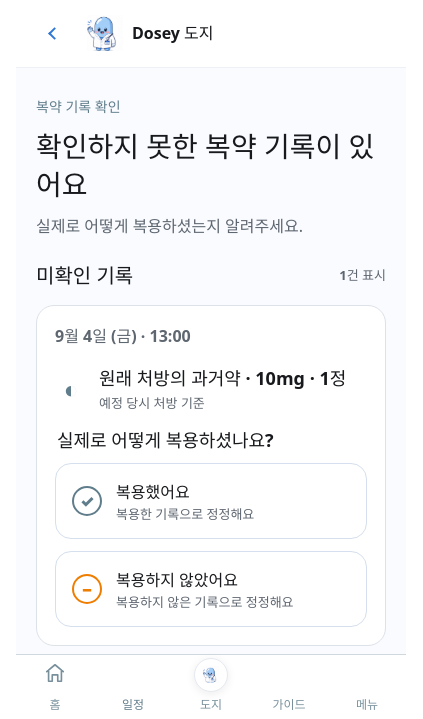
Scenario: UNCONFIRMED correction › submits NOT_TAKEN with occurrence, current revision and refreshes from the server
This screenshot has width=423, height=719.
Check: the text "원래 처방의 과거약 · 10mg · 1정" is shown, box [99, 364, 346, 390]
Click the button "− 복용하지 않았어요 복용하지 않은 기록으로 정정해요": (211, 589) [55, 551, 367, 627]
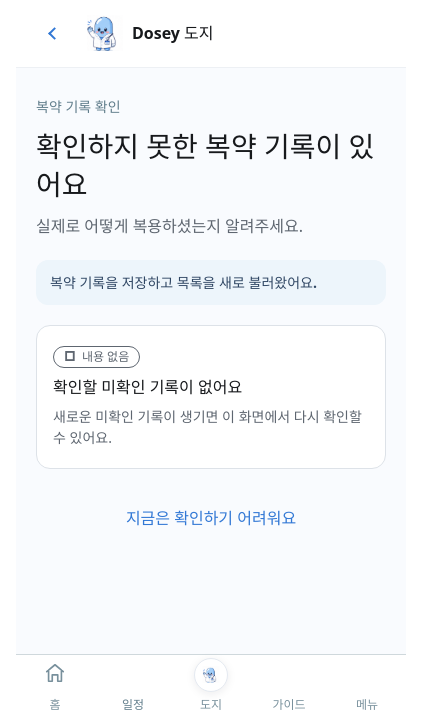
Check: the text "확인할 미확인 기록이 없어요" is shown, box [53, 376, 242, 398]
Check: the text "복약 기록을 저장하고 목록을 새로 불러왔어요." is shown, box [36, 260, 386, 305]
